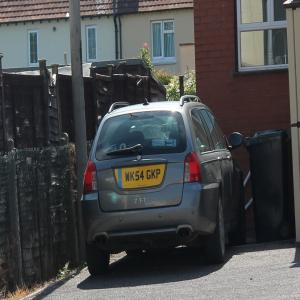Vehicle-registration-plate: (115, 166, 167, 191)
